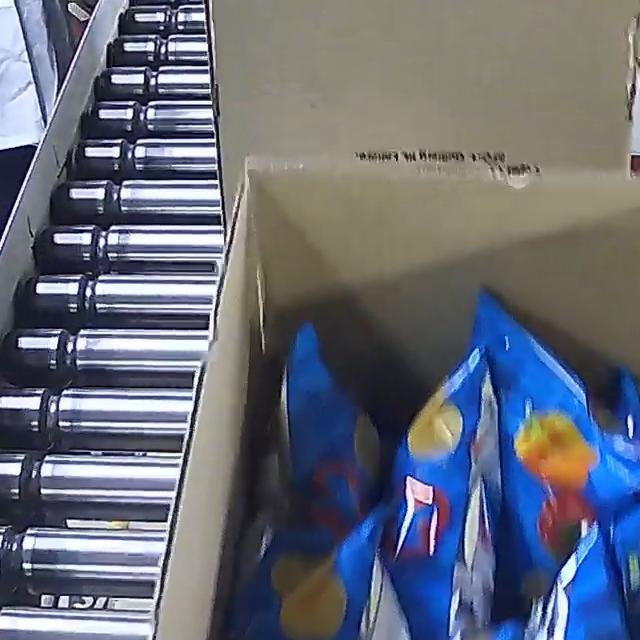paprika: (219, 285, 640, 640)
